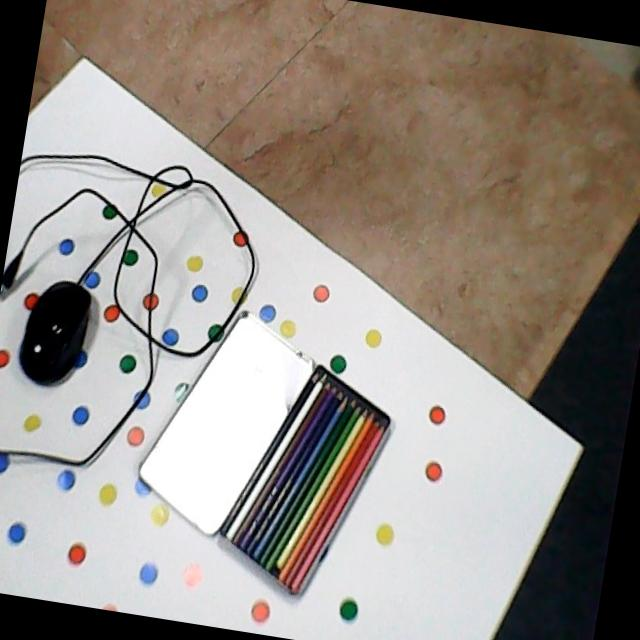color: (207, 357, 402, 605)
mouse: (15, 275, 97, 395)
